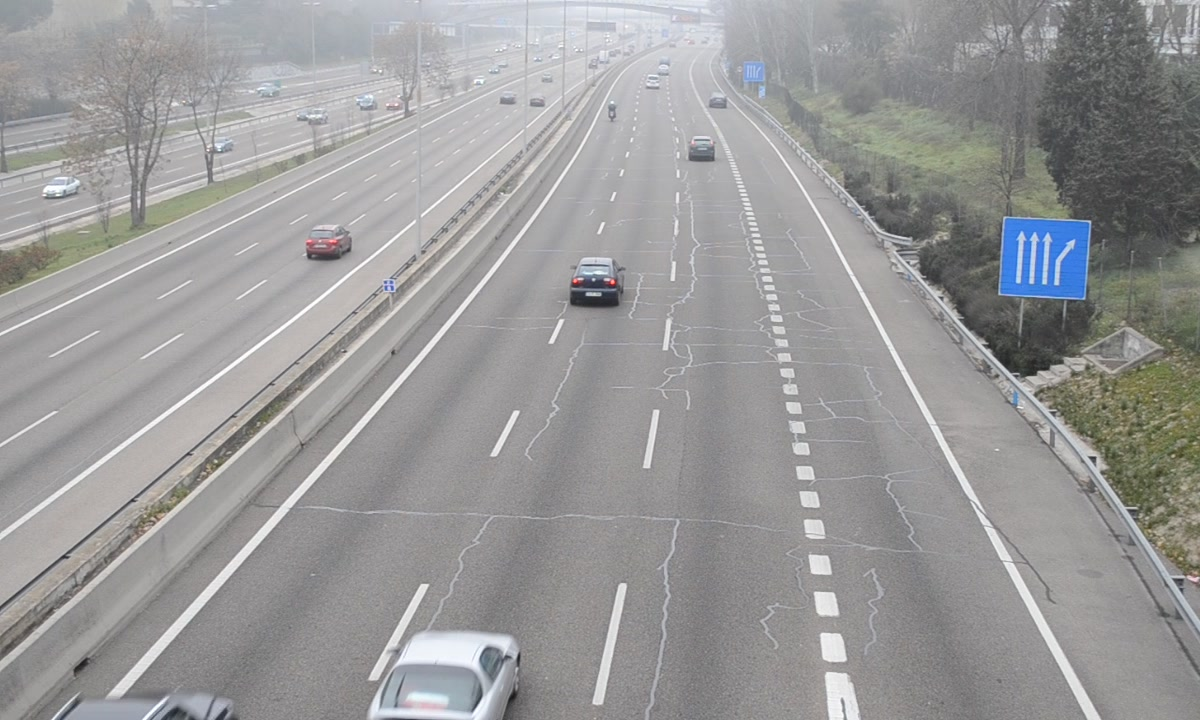car: (367, 629, 523, 720), (571, 257, 622, 306), (689, 134, 716, 162)
motorcycle: (608, 100, 618, 123)
